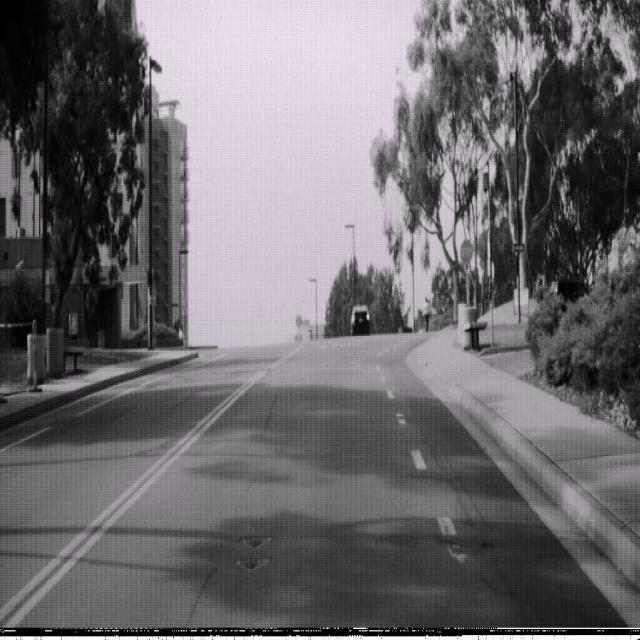stop_sign: (459, 237, 474, 266)
